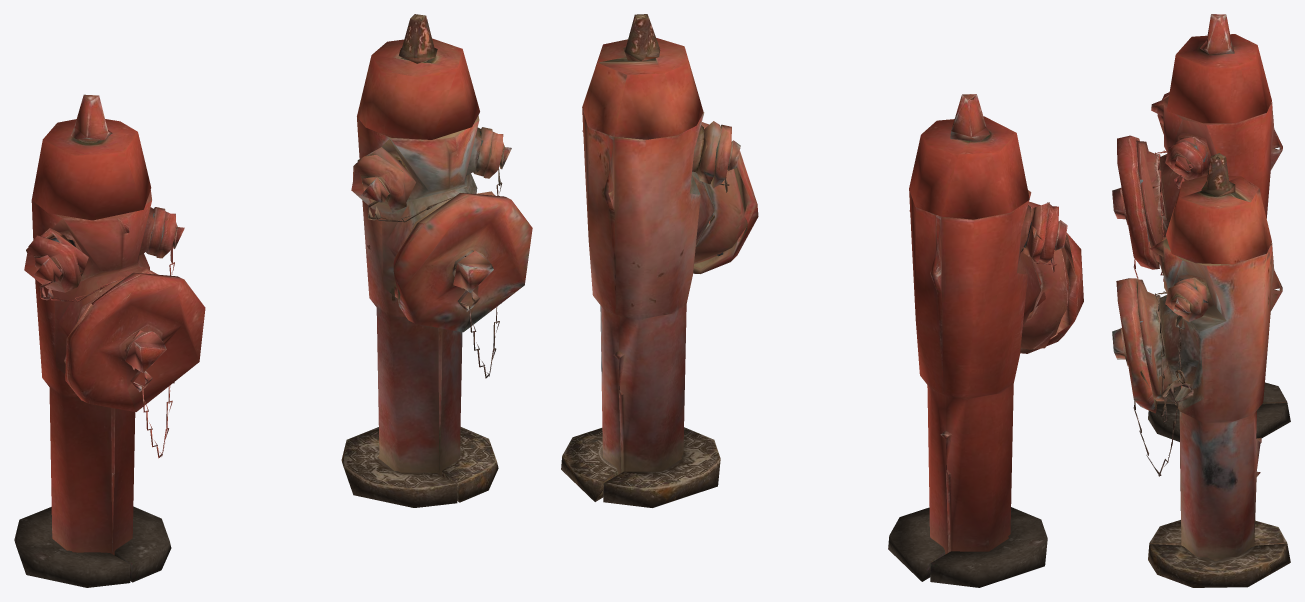
3 views of the same model, side by side, from view 1: azimuth 30°, elevation 25°; view 2: azimuth 150°, elevation 25°; view 3: azimuth 270°, elevation 25° (orthographic). The views are drawn at different scales.
Parts seen in each view (by area): view 1: fire_hydrant, fire_hydrant.001; view 2: fire_hydrant.001, fire_hydrant; view 3: fire_hydrant, fire_hydrant.001.
Boxes of the visible parts, box(x1,y1,x2,y2) form: fire_hydrant: box(341, 14, 532, 507); fire_hydrant.001: box(14, 94, 205, 587); fire_hydrant.001: box(888, 94, 1083, 587); fire_hydrant: box(561, 14, 758, 507); fire_hydrant: box(1112, 153, 1290, 587); fire_hydrant.001: box(1112, 14, 1290, 441).
Bounding box in the file's own units: 0.8685 × 0.8019 × 0.3217.
2 materials, 2 textured.
